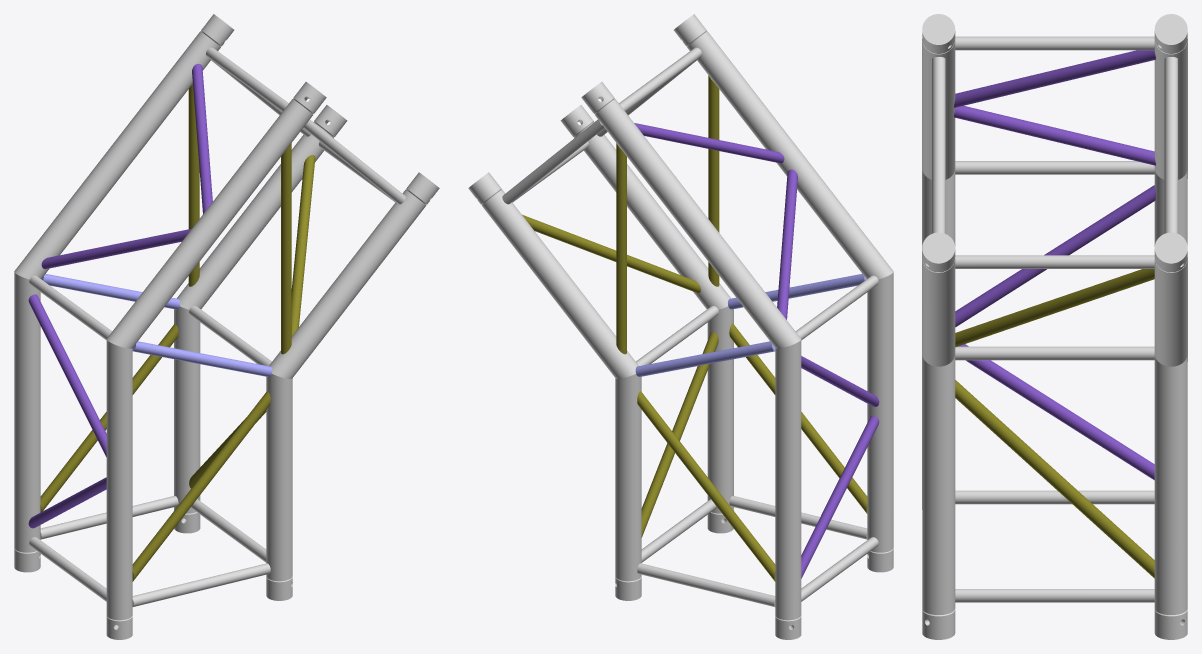
3 renders of one model, left to right at view 1: azimuth 30°, elevation 25°; view 2: azimuth 150°, elevation 25°; view 3: azimuth 270°, elevation 25°, orthographic. The views are drawn at different scales.
Visible parts, largest first — view 1: 260030443; view 2: 260030443; view 3: 260030443.
Boxes of the visible parts, left/top/right/bottom form: 260030443: left=14, top=14, right=439, bottom=639; 260030443: left=468, top=14, right=893, bottom=639; 260030443: left=922, top=14, right=1187, bottom=639.
Bounding box in the file's own units: 0.6981 × 1.02 × 0.3873.
